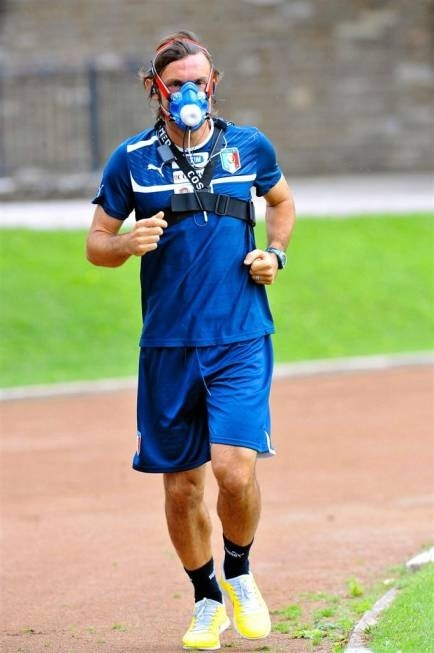face_with_mask: (147, 45, 222, 137)
